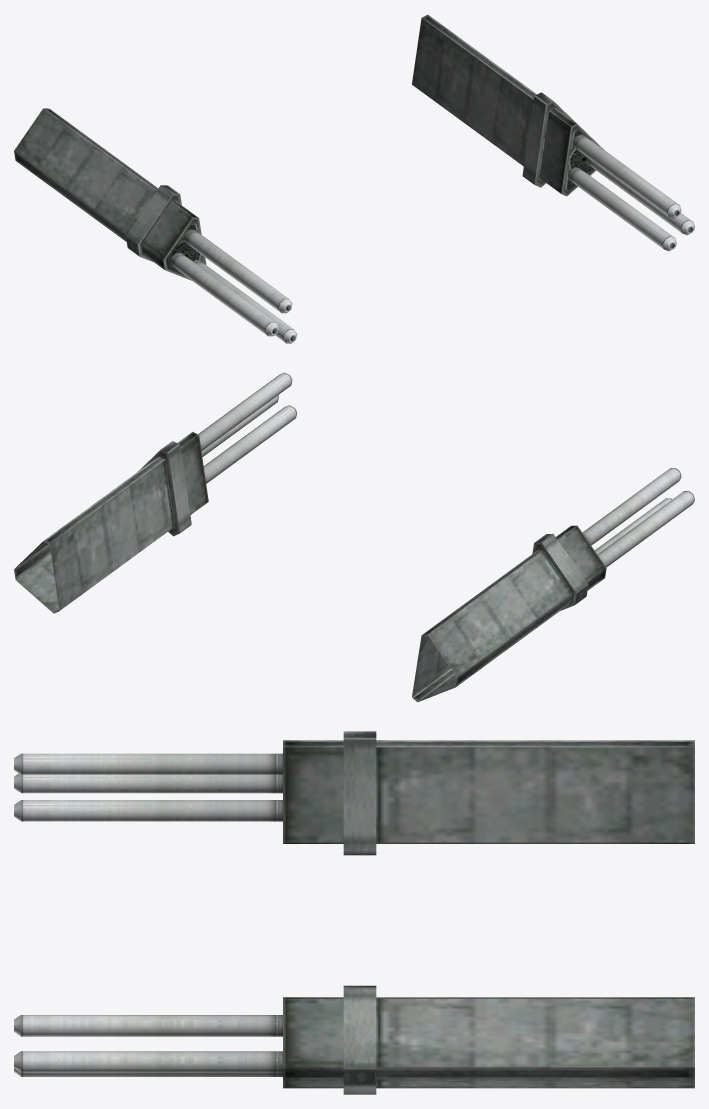
File: hutt_fighter_heavy_weapon1_s04_l0.fbx
3 views of the same model, one above another, from view 1: azimuth 30°, elevation 25°; view 2: azimuth 150°, elevation 25°; view 3: azimuth 270°, elevation 25° (orthographic). The views are drawn at different scales.
Visible parts, largest first — view 1: mesh_node; view 2: mesh_node; view 3: mesh_node.
Part boxes in pixels (x1=…): mesh_node: x1=14, y1=14, x2=694, y2=343; mesh_node: x1=14, y1=372, x2=694, y2=702; mesh_node: x1=14, y1=731, x2=694, y2=1094.
Bounding box in the file's own units: 2.76 × 0.4912 × 2.62.
